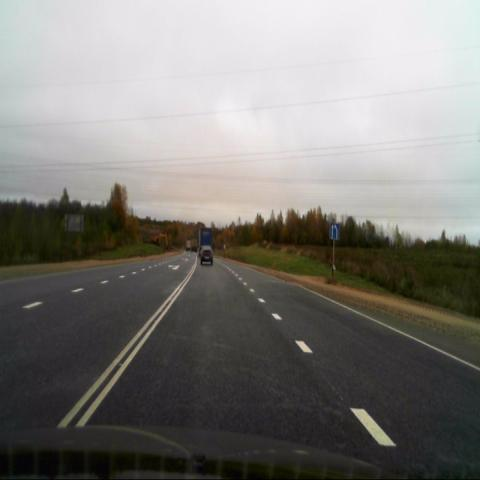5_15_5: (330, 223, 338, 240)
